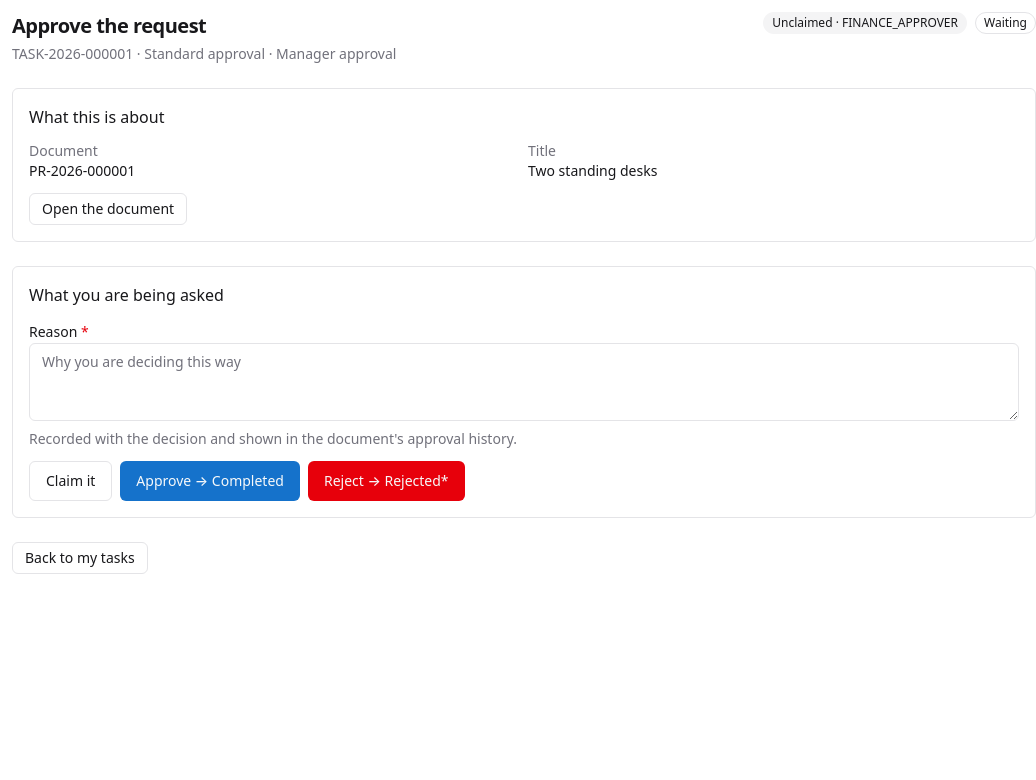
Test: TaskDetailPage › refuses a required reason before sending anything
Click the button with test id "decide-REJECT" at (386, 481), box [308,461,464,501]
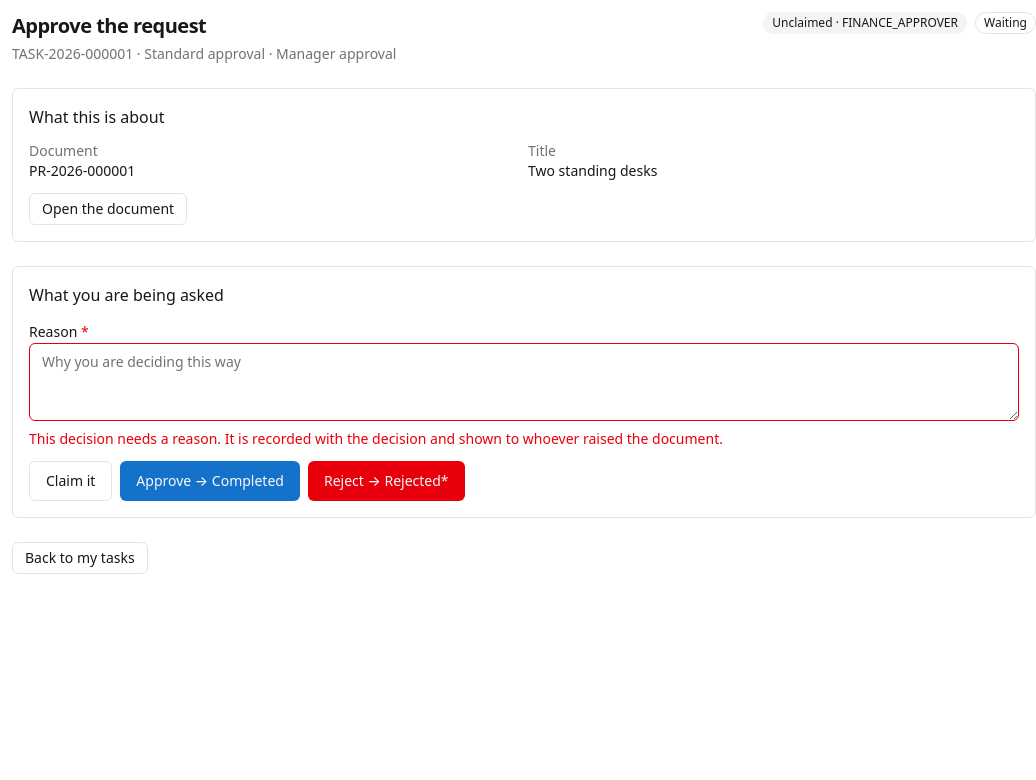
Expected: the text with test id "comment-required" shows "needs a reason", [29,429,723,448]
